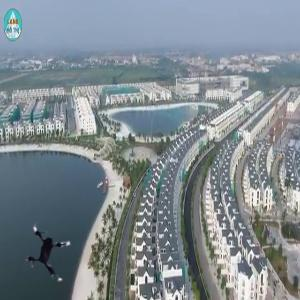drone: (17, 216, 89, 288)
